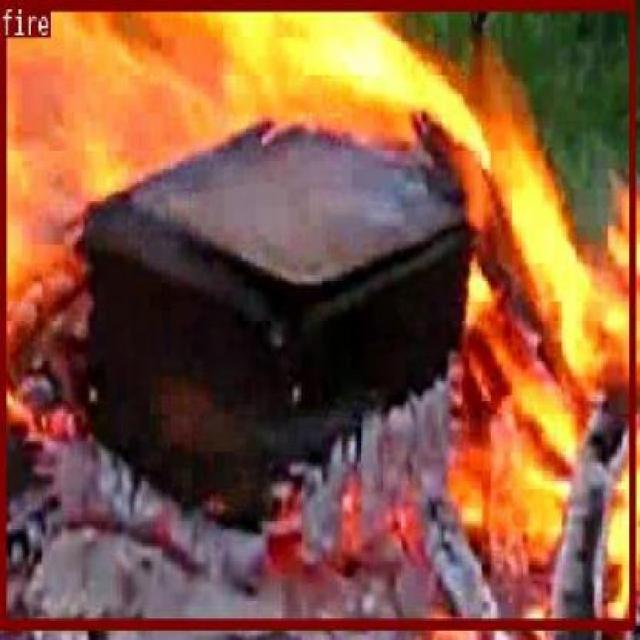Fire: (318, 313, 635, 626)
